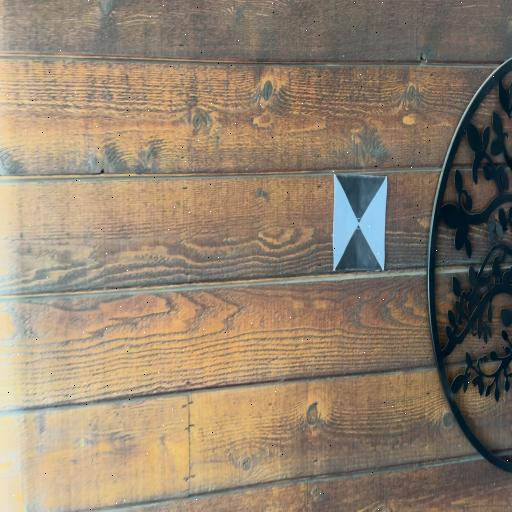target: (334, 175, 386, 271)
